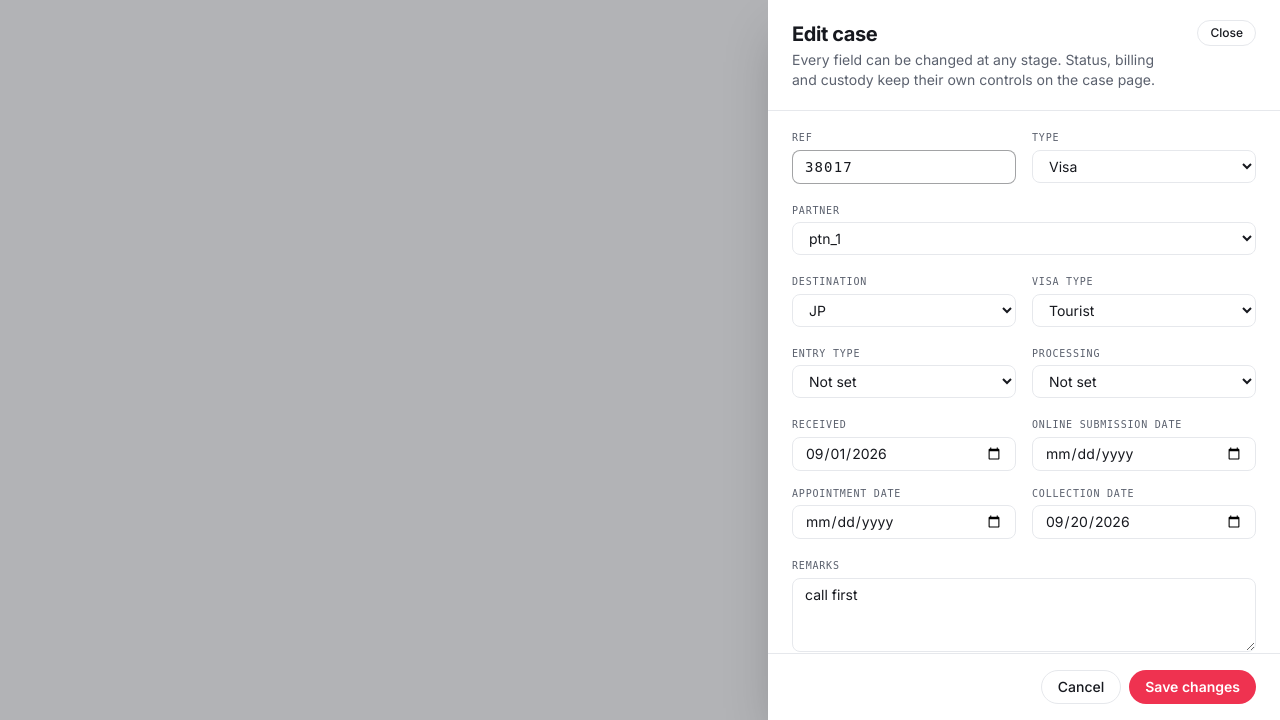
Scenario: EditCaseDrawer › does nothing and says so when no field changed
The image size is (1280, 720).
Click the button "Save changes" at (1193,687), box [1129, 670, 1256, 704]
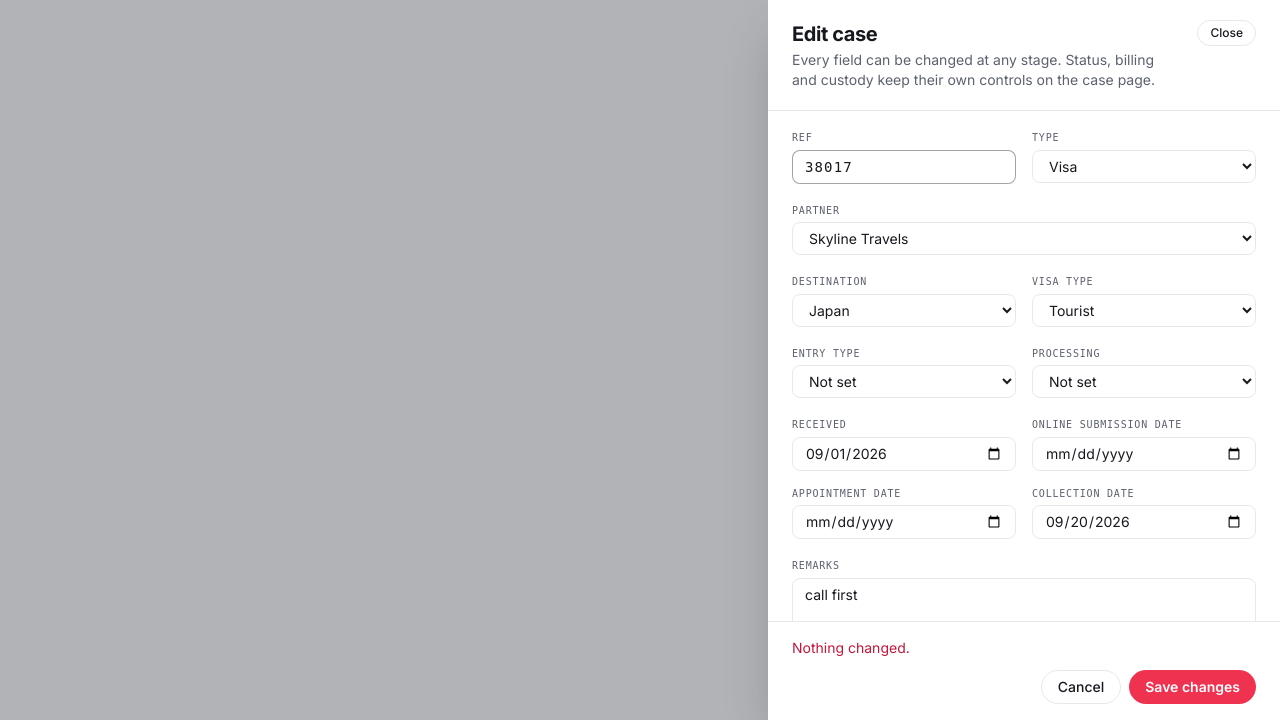
Expected: the text "Nothing changed." is shown, [792, 639, 910, 656]
